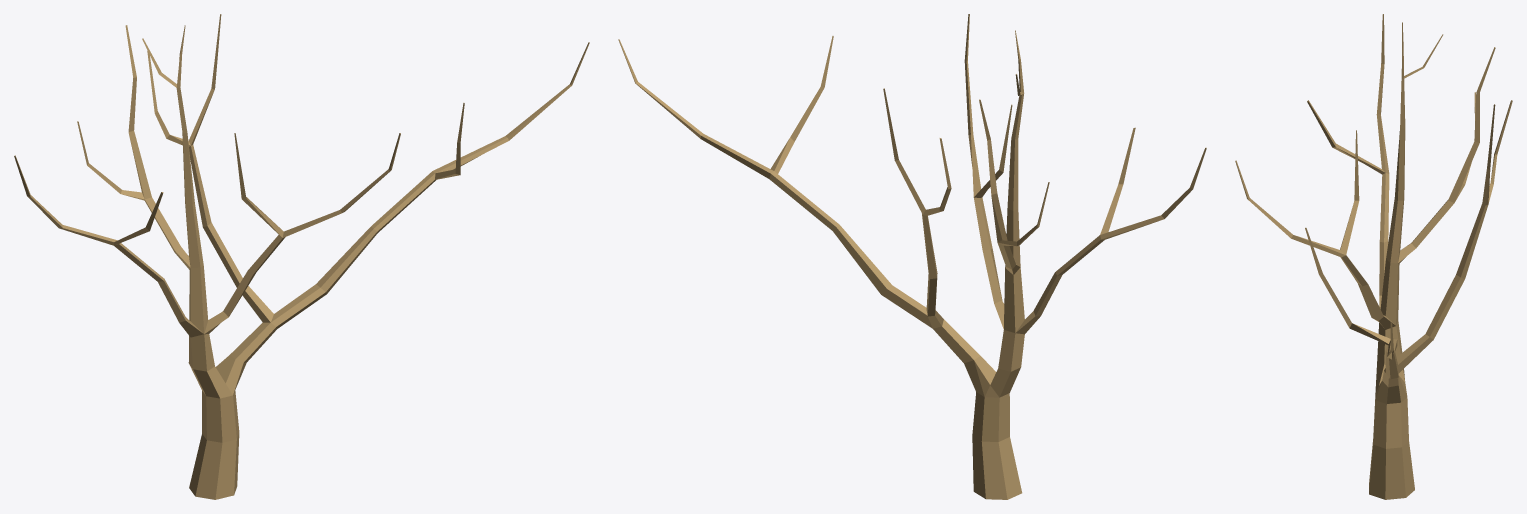
Rendered from Acacia_Tree_NoLeaves_l_BT_01.fbx.
The picture shows the model from 3 angles, left to right: view 1: azimuth 30°, elevation 25°; view 2: azimuth 150°, elevation 25°; view 3: azimuth 270°, elevation 25°; orthographic projection. The views are drawn at different scales.
Visible parts, largest first — view 1: Acacia_Tree_NoLeaves_l_BT_01; view 2: Acacia_Tree_NoLeaves_l_BT_01; view 3: Acacia_Tree_NoLeaves_l_BT_01.
Boxes of the visible parts, x1,y1,x2,y2 form: Acacia_Tree_NoLeaves_l_BT_01: (14,14,589,499); Acacia_Tree_NoLeaves_l_BT_01: (618,14,1206,499); Acacia_Tree_NoLeaves_l_BT_01: (1235,14,1512,499).
Bounding box in the file's own units: 1530 × 1174 × 646.
